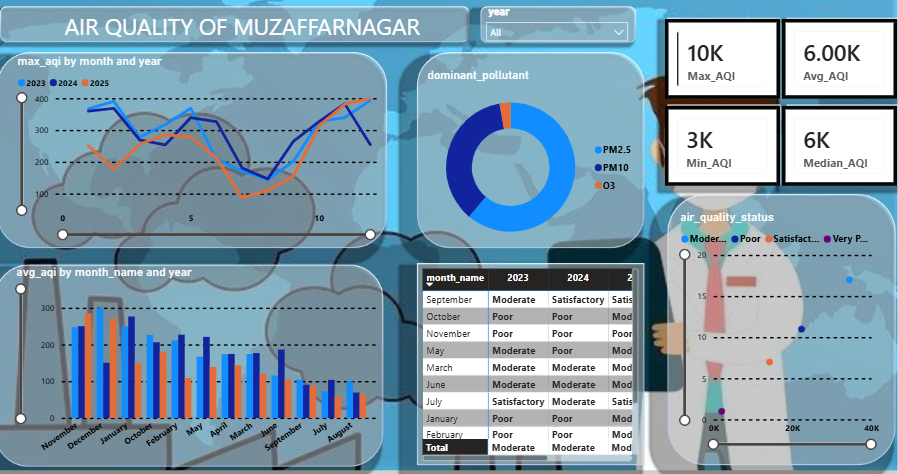

What the dashboard file says about the page in this screenshot:
{"tool":"powerbi","page":{"name":"Page 1","canvas":[1280,720],"ordinal":0},"visuals":[{"type":"lineChart","title":"max_aqi by month and year","fields":{"Category":["muzaffarnagar_air_quality_2022_2026_monthwise.month"],"Series":["muzaffarnagar_air_quality_2022_2026_monthwise.year"],"Y":["Sum(muzaffarnagar_air_quality_2022_2026_monthwise.max_aqi)"]},"box":[28.3,118.3,520,266.7],"z":0},{"type":"clusteredColumnChart","title":" avg_aqi by month_name and year","fields":{"Category":["muzaffarnagar_air_quality_2022_2026_monthwise.month_name"],"Y":["Sum(muzaffarnagar_air_quality_2022_2026_monthwise.avg_aqi)"],"Series":["muzaffarnagar_air_quality_2022_2026_monthwise.year"]},"box":[26.9,416.7,520.2,284.9],"z":1000},{"type":"scatterChart","title":" air_quality_status","fields":{"X":["Sum(muzaffarnagar_air_quality_2022_2026_monthwise.year)"],"Y":["CountNonNull(muzaffarnagar_air_quality_2022_2026_monthwise.month)"],"Series":["muzaffarnagar_air_quality_2022_2026_monthwise.air_quality_status"]},"box":[968.3,338.3,291.7,343.3],"z":2000},{"type":"pivotTable","fields":{"Rows":["muzaffarnagar_air_quality_2022_2026_monthwise.month_name"],"Columns":["muzaffarnagar_air_quality_2022_2026_monthwise.year"],"Values":["Min(muzaffarnagar_air_quality_2022_2026_monthwise.air_quality_status)"]},"box":[602.9,417.1,315.7,282.9],"z":3000},{"type":"donutChart","title":" dominant_pollutant","fields":{"Category":["muzaffarnagar_air_quality_2022_2026_monthwise.dominant_pollutant"],"Y":["CountNonNull(muzaffarnagar_air_quality_2022_2026_monthwise.month)"]},"box":[610,137.1,308.6,260],"z":4000},{"type":"cardVisual","fields":{"Data":["Sum(muzaffarnagar_air_quality_2022_2026_monthwise.max_aqi)"]},"box":[951.7,68.3,163.3,113.3],"z":5000},{"type":"cardVisual","fields":{"Data":["Sum(muzaffarnagar_air_quality_2022_2026_monthwise.median_aqi)"]},"box":[1116.7,191.7,163.3,113.3],"z":6000},{"type":"cardVisual","fields":{"Data":["Sum(muzaffarnagar_air_quality_2022_2026_monthwise.avg_aqi)"]},"box":[1116.7,68.3,163.3,113.3],"z":7000},{"type":"cardVisual","fields":{"Data":["Sum(muzaffarnagar_air_quality_2022_2026_monthwise.min_aqi)"]},"box":[951.7,191.7,163.3,113.3],"z":8000},{"type":"slicer","fields":{"Values":["muzaffarnagar_air_quality_2022_2026_monthwise.year"]},"box":[687.4,42.5,221.1,62.4],"z":9000},{"type":"textbox","box":[95,51,576,54],"z":10000}]}

Visuals, with their boxes on the page's 1280x720 design canvas (x1, y1, x2, y2). These are canvas units, not pixel positions in the 898x474 screenshot, which may show the page scaled, cropped or inside an application window:
"max_aqi by month and year" lineChart: <box>28,118,548,385</box>
" avg_aqi by month_name and year" clusteredColumnChart: <box>27,417,547,702</box>
" air_quality_status" scatterChart: <box>968,338,1260,682</box>
pivotTable - muzaffarnagar_air_quality_2022_2026_monthwise.month_name x muzaffarnagar_air_quality_2022_2026_monthwise.year: <box>603,417,919,700</box>
" dominant_pollutant" donutChart: <box>610,137,919,397</box>
cardVisual - Sum(muzaffarnagar_air_quality_2022_2026_monthwise.max_aqi): <box>952,68,1115,182</box>
cardVisual - Sum(muzaffarnagar_air_quality_2022_2026_monthwise.median_aqi): <box>1117,192,1280,305</box>
cardVisual - Sum(muzaffarnagar_air_quality_2022_2026_monthwise.avg_aqi): <box>1117,68,1280,182</box>
cardVisual - Sum(muzaffarnagar_air_quality_2022_2026_monthwise.min_aqi): <box>952,192,1115,305</box>
slicer - muzaffarnagar_air_quality_2022_2026_monthwise.year: <box>687,42,908,105</box>
textbox: <box>95,51,671,105</box>
